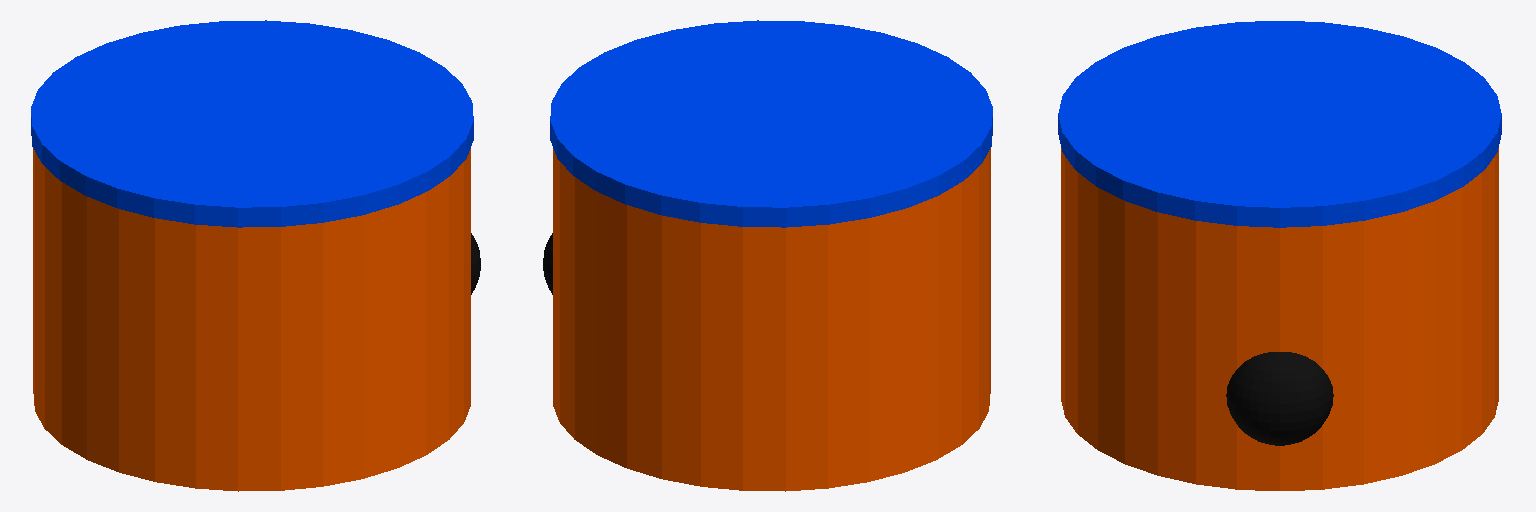
URDF robot description (robotino3):
<?xml version="1.0" ?>
<!-- =================================================================================== -->
<!-- |    This document was autogenerated by xacro from /home/docker_user/catkin_ws/src/contact_maintain/urdf/xacro/holonomic_robot.urdf.xacro | -->
<!-- |    EDITING THIS FILE BY HAND IS NOT RECOMMENDED                                 | -->
<!-- =================================================================================== -->
<robot name="robotino3">
  <!-- 
    Robotino 3 Simplified Model for Contact Maintenance
    
    Based on Festo Robotino 3 from Webots.
    - Cylindrical body (no wheel physics, pure velocity control)
    - Sphere contact sensor ("bumper") at front
    - 3 DOF: x, y translation and rotation around z
    -->
  <!-- Colors matching Robotino -->
  <material name="robotino_orange">
    <color rgba="1.0 0.4 0.0 1.0"/>
  </material>
  <material name="bumper_black">
    <color rgba="0.1 0.1 0.1 1.0"/>
  </material>
  <material name="marker_blue">
    <color rgba="0.0 0.33 1.0 1.0"/>
  </material>
  <!-- World link (fixed reference) -->
  <link name="world"/>
  <!-- X-axis prismatic joint carrier -->
  <link name="x_carrier">
    <inertial>
      <mass value="0.001"/>
      <inertia ixx="0.0001" ixy="0" ixz="0" iyy="0.0001" iyz="0" izz="0.0001"/>
    </inertial>
  </link>
  <joint name="x_joint" type="prismatic">
    <parent link="world"/>
    <child link="x_carrier"/>
    <origin rpy="0 0 0" xyz="0 0 0"/>
    <axis xyz="1 0 0"/>
    <limit effort="1000" lower="-100" upper="100" velocity="10"/>
    <dynamics damping="0.0" friction="0.0"/>
  </joint>
  <!-- Y-axis prismatic joint carrier -->
  <link name="y_carrier">
    <inertial>
      <mass value="0.001"/>
      <inertia ixx="0.0001" ixy="0" ixz="0" iyy="0.0001" iyz="0" izz="0.0001"/>
    </inertial>
  </link>
  <joint name="y_joint" type="prismatic">
    <parent link="x_carrier"/>
    <child link="y_carrier"/>
    <origin rpy="0 0 0" xyz="0 0 0"/>
    <axis xyz="0 1 0"/>
    <limit effort="1000" lower="-100" upper="100" velocity="10"/>
    <dynamics damping="0.0" friction="0.0"/>
  </joint>
  <!-- Rotation joint carrier -->
  <link name="theta_carrier">
    <inertial>
      <mass value="0.001"/>
      <inertia ixx="0.0001" ixy="0" ixz="0" iyy="0.0001" iyz="0" izz="0.0001"/>
    </inertial>
  </link>
  <joint name="theta_joint" type="continuous">
    <parent link="y_carrier"/>
    <child link="theta_carrier"/>
    <origin rpy="0 0 0" xyz="0 0 0"/>
    <axis xyz="0 0 1"/>
    <limit effort="1000" velocity="10"/>
    <dynamics damping="0.0" friction="0.0"/>
  </joint>
  <!-- Robot body (Robotino cylindrical base) -->
  <link name="base_link">
    <!-- Main cylinder body -->
    <visual>
      <geometry>
        <cylinder length="0.08" radius="0.06"/>
      </geometry>
      <origin rpy="0 0 0" xyz="0 0 0.04"/>
      <material name="robotino_orange"/>
    </visual>
    <!-- Blue ring marker on top (like Webots OUT_CIRCLE) -->
    <visual>
      <geometry>
        <cylinder length="0.006" radius="0.060719999999999996"/>
      </geometry>
      <origin rpy="0 0 0" xyz="0 0 0.083"/>
      <material name="marker_blue"/>
    </visual>
    <collision>
      <geometry>
        <cylinder length="0.08" radius="0.06"/>
      </geometry>
      <origin rpy="0 0 0" xyz="0 0 0.04"/>
    </collision>
    <inertial>
      <mass value="0.5"/>
      <origin rpy="0 0 0" xyz="0 0 0.04"/>
      <!-- Cylinder inertia: Ixx=Iyy=m*(3r^2+h^2)/12, Izz=m*r^2/2 -->
      <inertia ixx="0.0007166666666666667" ixy="0" ixz="0" iyy="0.0007166666666666667" iyz="0" izz="0.0009"/>
    </inertial>
  </link>
  <joint name="base_joint" type="fixed">
    <parent link="theta_carrier"/>
    <child link="base_link"/>
    <origin rpy="0 0 0" xyz="0 0 0"/>
  </joint>
  <!-- Bumper / Contact sensor (sphere at front of robot) -->
  <!-- In Webots: translation -6.6e-06 0.19998 0.08, so roughly at y=0.2, z=0.08 -->
  <!-- After rotation -90deg around z, this becomes x=0.2 in robot frame -->
  <link name="bumper">
    <visual>
      <geometry>
        <sphere radius="0.015"/>
      </geometry>
      <material name="bumper_black"/>
    </visual>
    <collision>
      <geometry>
        <sphere radius="0.015"/>
      </geometry>
    </collision>
    <inertial>
      <mass value="0.005"/>
      <!-- Sphere inertia: I = 2/5 * m * r^2 -->
      <inertia ixx="4.5e-07" ixy="0" ixz="0" iyy="4.5e-07" iyz="0" izz="4.5e-07"/>
    </inertial>
  </link>
  <!-- Bumper is at the front edge of the robot body -->
  <joint name="bumper_joint" type="fixed">
    <parent link="base_link"/>
    <child link="bumper"/>
    <!-- Position: front of robot (x = body_radius + small gap), at mid-height -->
    <origin rpy="0 0 0" xyz="0.055 0 0.027999999999999997"/>
  </joint>
</robot>

--- Facts derived from the render (not from the file) ---
Views: 3 orthographic renders of the robot side by side, from view 1: azimuth 30°, elevation 25°; view 2: azimuth 150°, elevation 25°; view 3: azimuth 270°, elevation 25°.
Robot: robotino3 — 6 links, 5 joints (1 continuous, 2 prismatic, 2 fixed); root link world; default pose: all joints at 0.
Links seen in each view (by area): view 1: base_link; view 2: base_link; view 3: base_link, bumper.
Link boxes in pixels (box(x1,y1,x2,y2)): base_link: box(31, 20, 473, 491); base_link: box(550, 20, 992, 491); base_link: box(1058, 21, 1501, 490); bumper: box(1226, 352, 1333, 445).
Bounding box of the posed robot: 0.1307 × 0.1214 × 0.086 m (x, y, z).
Geometry: primitives only (box / cylinder / sphere), no mesh files.
